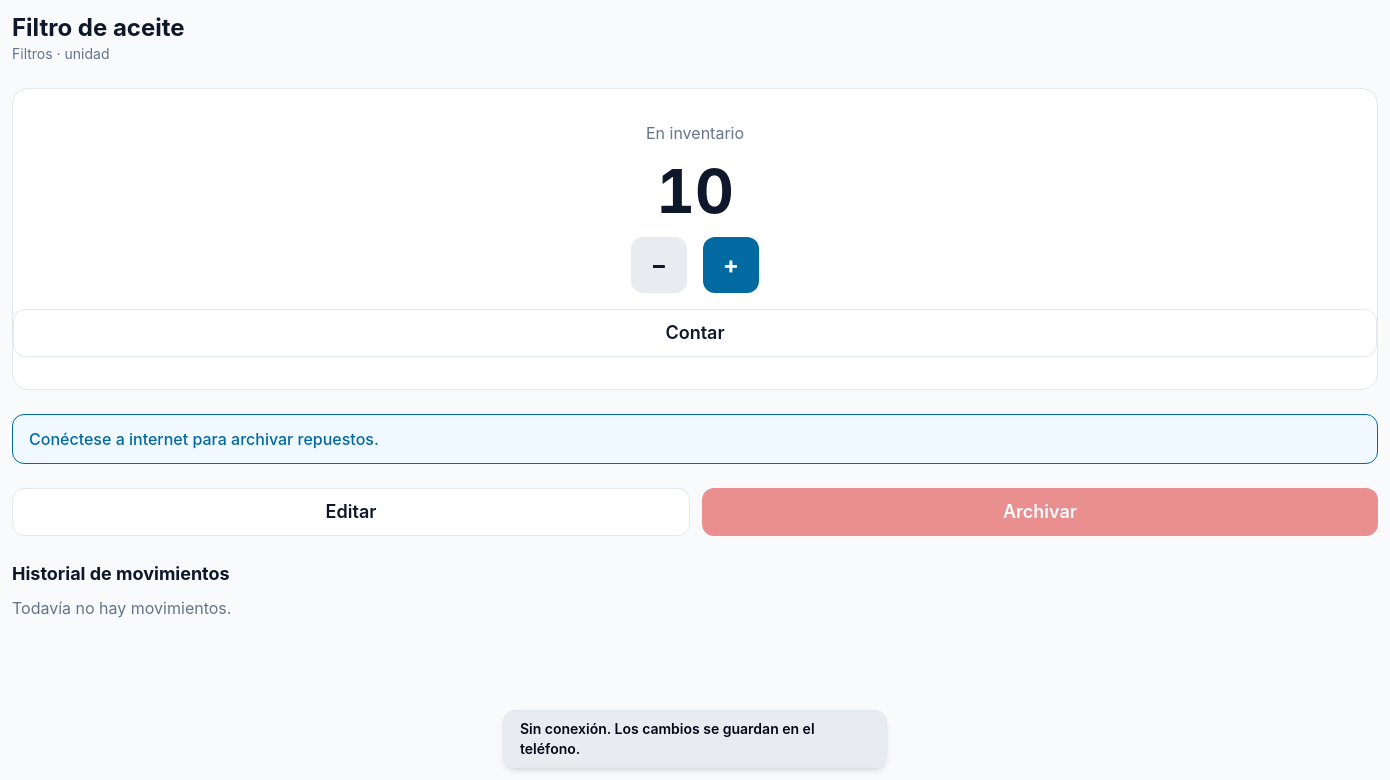
ItemDetailPage offline › shows how many changes are waiting to be sent, updated after every offline tap
Expected: the text "10" is shown, top-left (656, 161), bottom-right (734, 221)
Step 1. Click the button named "Agregar una unidad de Filtro de aceite" → click(731, 265), box top-left (703, 237), bottom-right (759, 293)
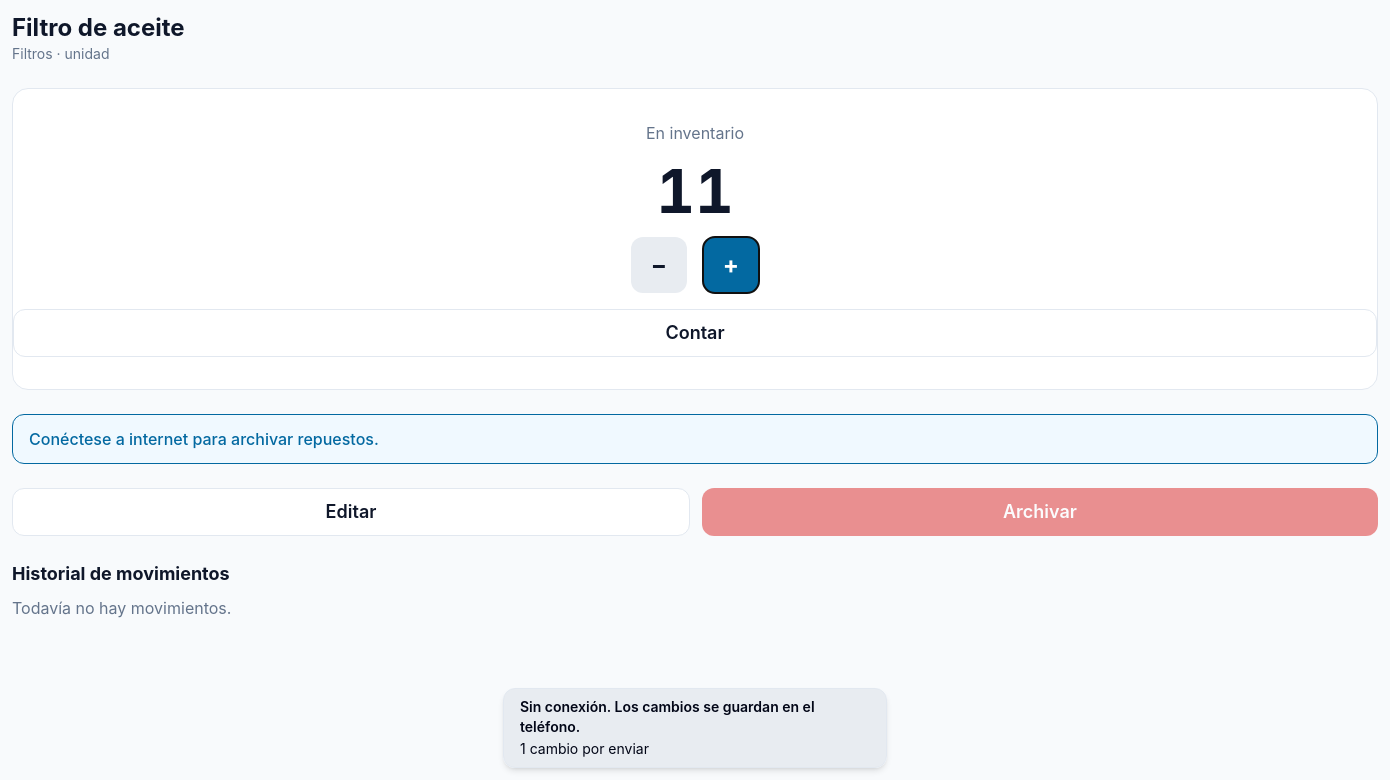
Now the text "1 cambio por enviar" is shown, box top-left (520, 740), bottom-right (649, 757)
Step 2. Click the button named "Agregar una unidad de Filtro de aceite" → click(731, 265), box top-left (703, 237), bottom-right (759, 293)
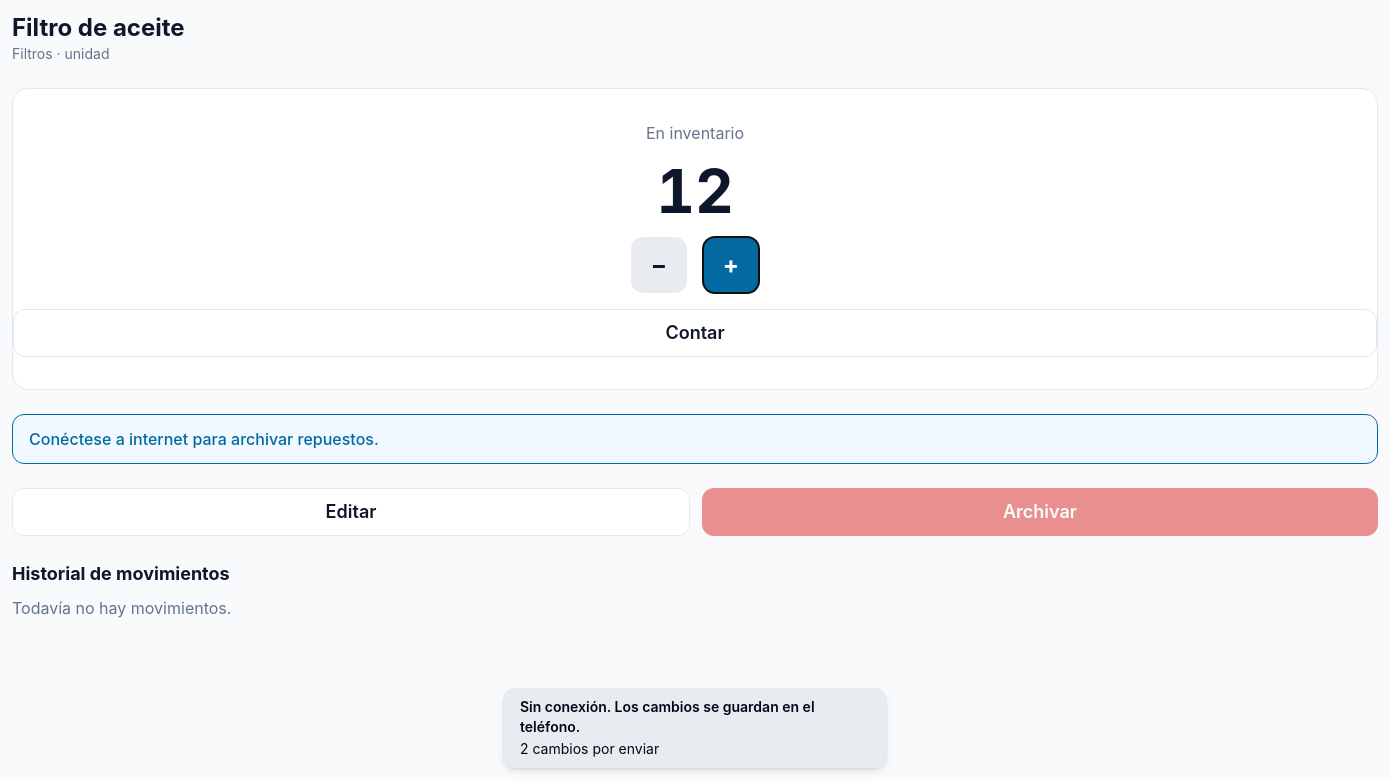
Step 3. Click the button named "Agregar una unidad de Filtro de aceite" → click(731, 265), box top-left (703, 237), bottom-right (759, 293)
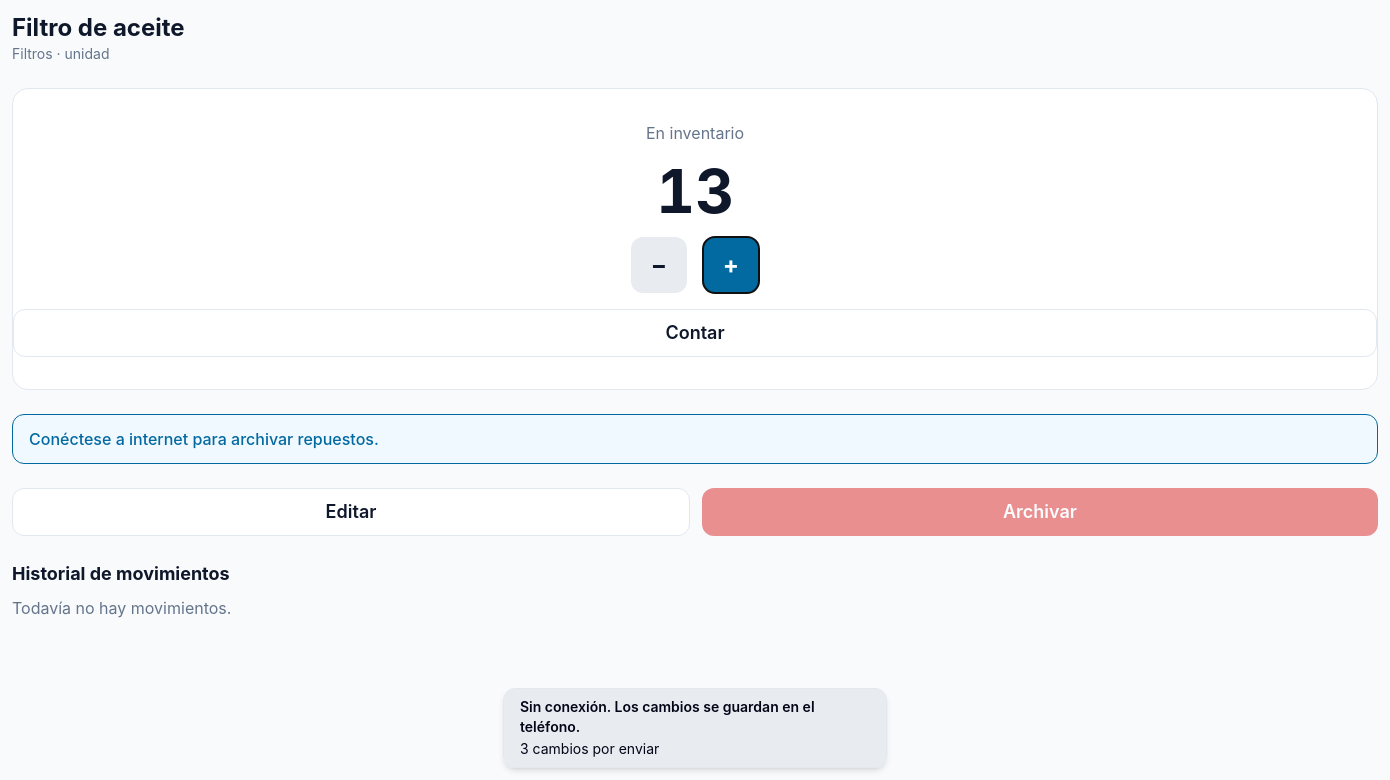
Expected: the text "Sin conexión. Los cambios se guardan en el teléfono." is shown, top-left (520, 698), bottom-right (814, 735)
Now the text "3 cambios por enviar" is shown, box top-left (520, 740), bottom-right (659, 757)
